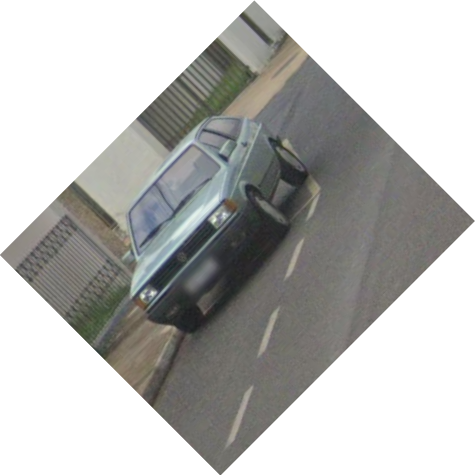car: (125, 114, 312, 325)
